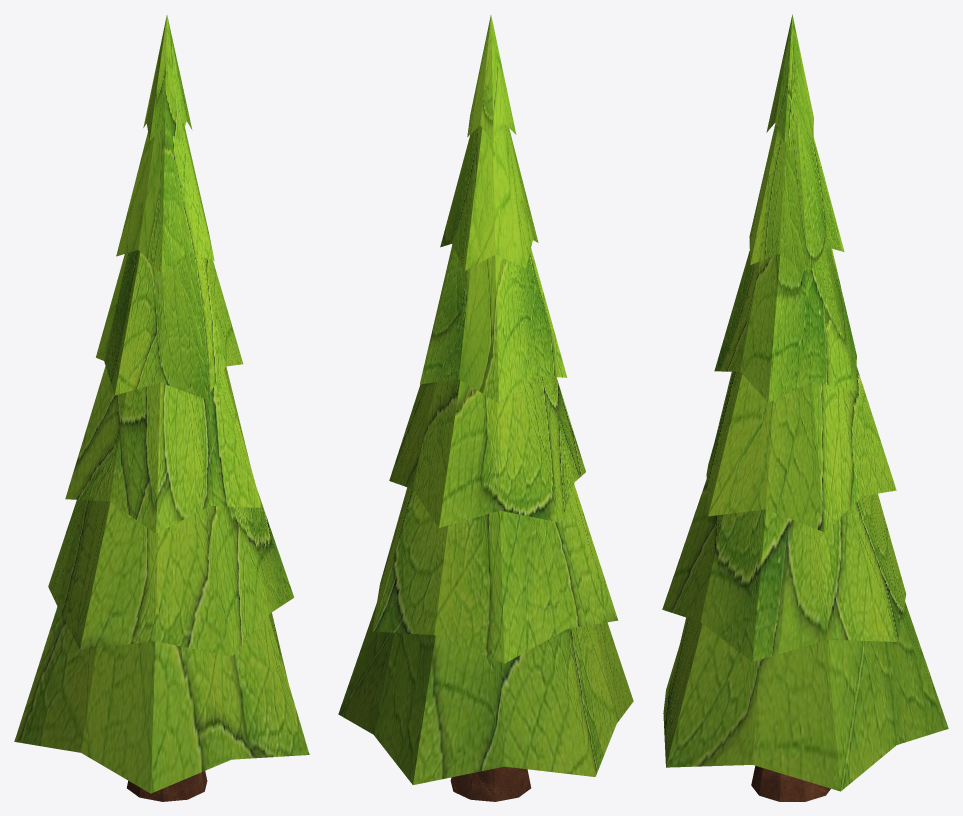
The model's file is Low Poly Fir.obj.
3 views of the same model, side by side, from view 1: azimuth 30°, elevation 25°; view 2: azimuth 150°, elevation 25°; view 3: azimuth 270°, elevation 25° (orthographic).
Visible parts, largest first — view 1: Cylinder, Cylinder.001; view 2: Cylinder, Cylinder.001; view 3: Cylinder, Cylinder.001.
Boxes of the visible parts, x1,y1,x2,y2 form: Cylinder: (14,15,309,793); Cylinder.001: (127,771,207,801); Cylinder: (338,15,633,784); Cylinder.001: (450,766,531,801); Cylinder: (662,14,948,791); Cylinder.001: (751,766,830,801).
Bounding box in the file's own units: 6.09 × 17.42 × 5.87.
Materials: 2 (2 with a texture image).
